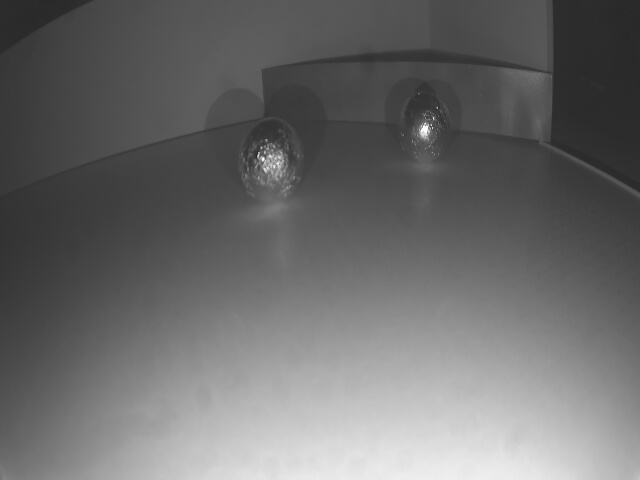Green: (262, 68, 553, 143)
Live: (237, 122, 307, 203), (396, 93, 453, 165)
